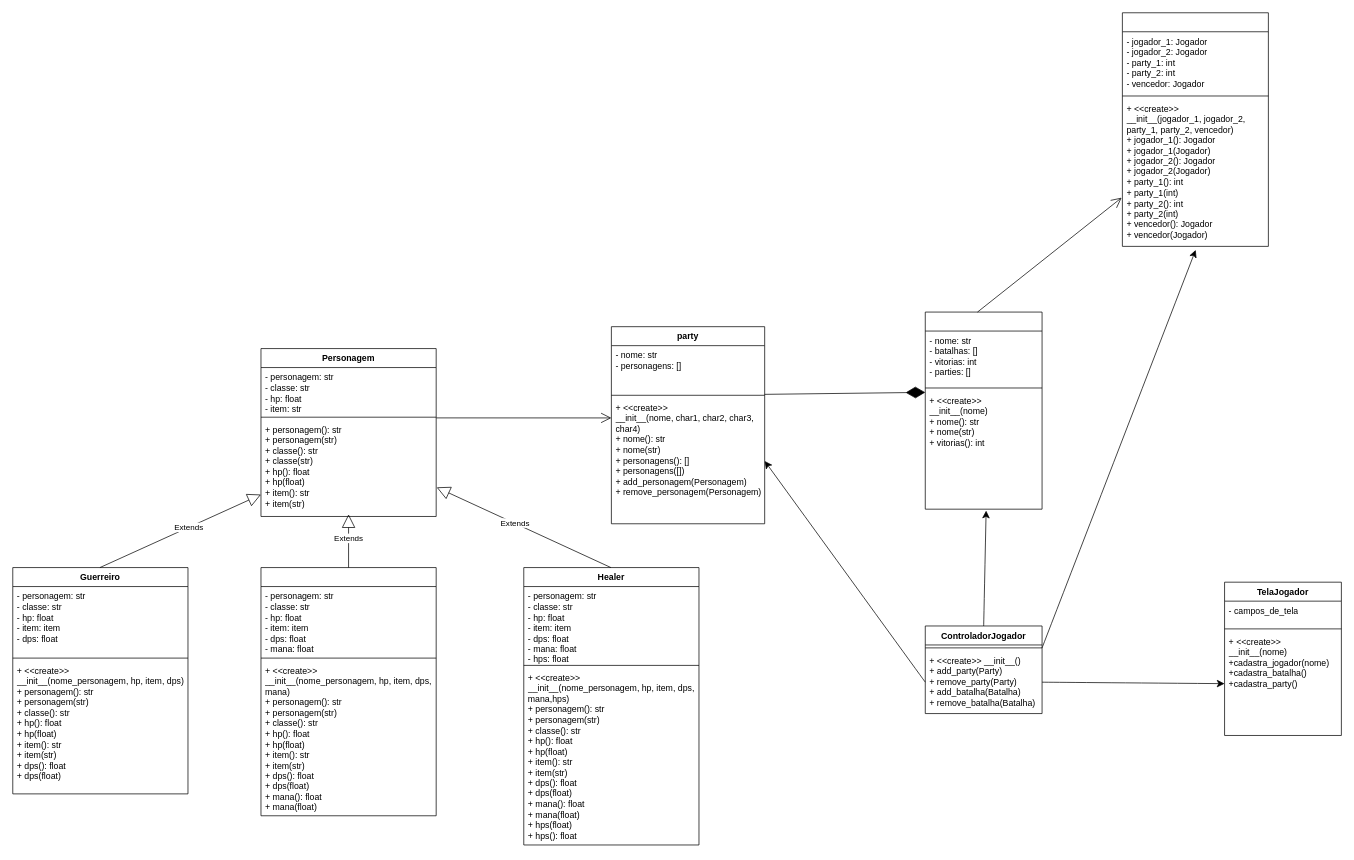
Image size: 1354x860. Some labels were removed from this diagram. The shapes that lost their labels are listed below. From the top down, each one's box as (x1, y1, x2, y2) in pixels, then its label:
(1122, 12, 1268, 246): batalha
(925, 311, 1042, 509): Jogador
(260, 567, 436, 816): Mago
